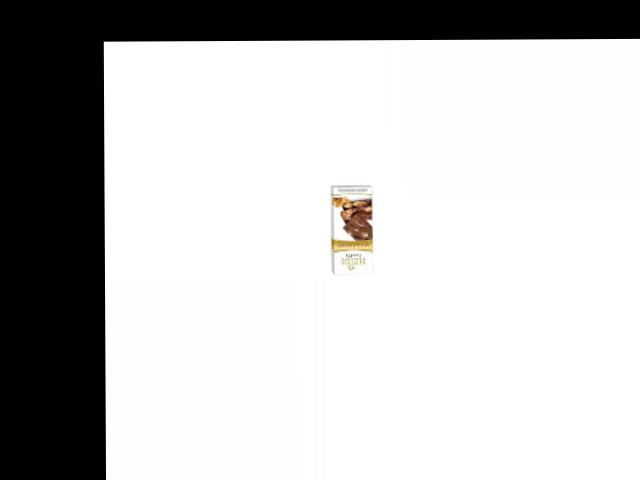chocolate: (323, 186, 382, 280)
